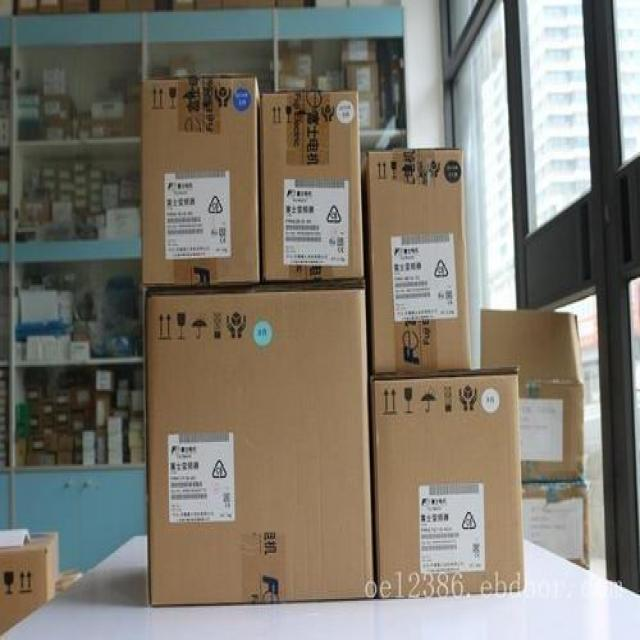box: (143, 290, 380, 603), (373, 361, 522, 594), (137, 76, 261, 286), (362, 143, 472, 374), (260, 90, 354, 286)
